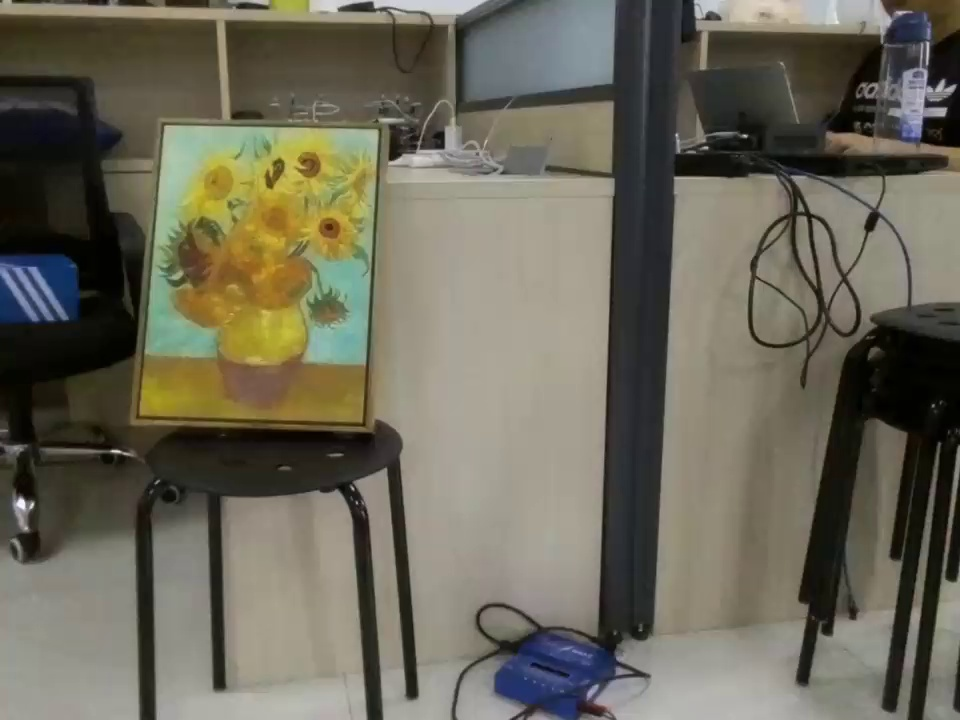painting: (133, 111, 389, 442)
